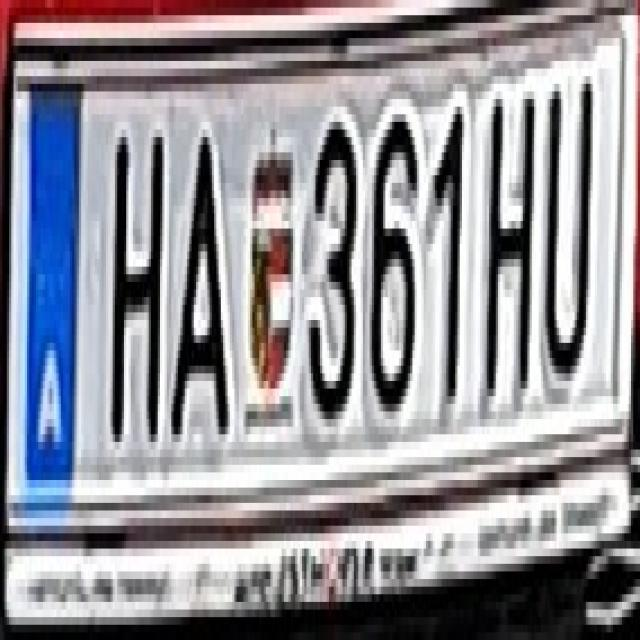1: (419, 91, 467, 404)
3: (302, 91, 358, 419)
6: (360, 84, 417, 404)
A: (162, 107, 235, 434)
H: (99, 99, 169, 442), (474, 69, 536, 404)
U: (538, 54, 592, 388)
